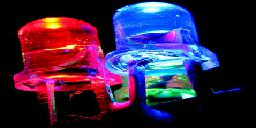LED: (105, 1, 221, 122), (6, 17, 106, 128)
